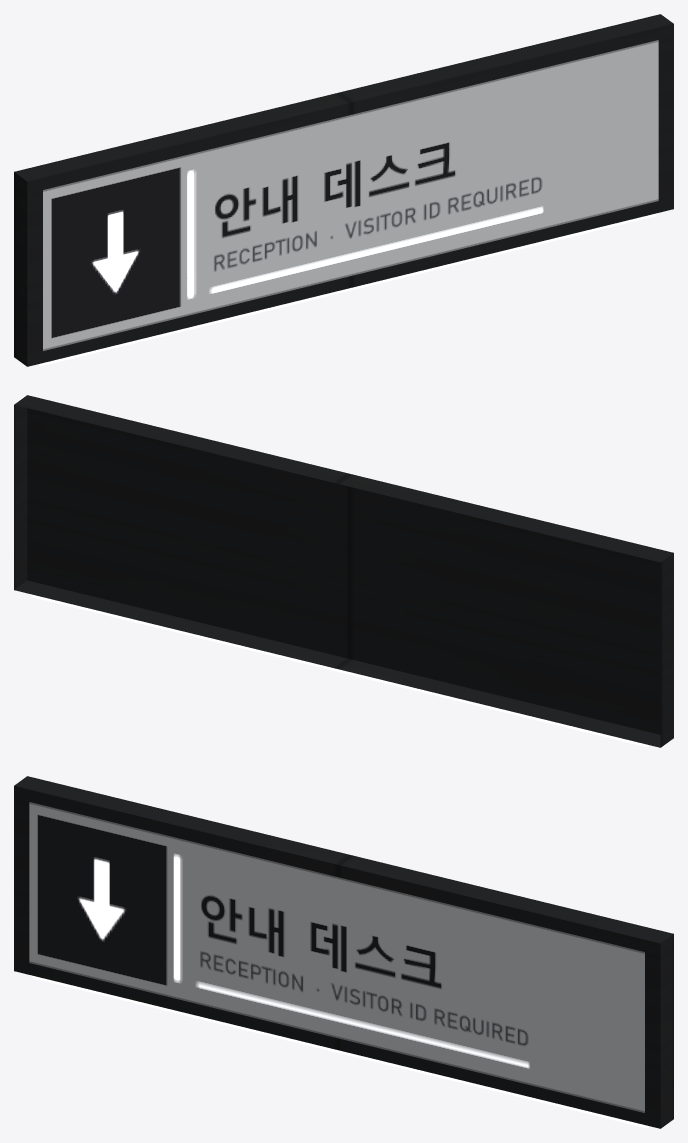
Rendered from SM_LFD_SignWayfinding_Reception.fbx.
3 renders of one model, top to bottom at view 1: azimuth 30°, elevation 25°; view 2: azimuth 150°, elevation 25°; view 3: azimuth 330°, elevation 25°, orthographic.
Parts seen in each view (by area): view 1: SM_LFD_SignWayfinding_Reception; view 2: SM_LFD_SignWayfinding_Reception; view 3: SM_LFD_SignWayfinding_Reception.
Boxes of the visible parts, x1=… form: SM_LFD_SignWayfinding_Reception: x1=14, y1=14, x2=673, y2=366; SM_LFD_SignWayfinding_Reception: x1=14, y1=395, x2=673, y2=747; SM_LFD_SignWayfinding_Reception: x1=14, y1=776, x2=673, y2=1128.
Bounding box in the file's own units: 1.68 × 0.472 × 0.061.
